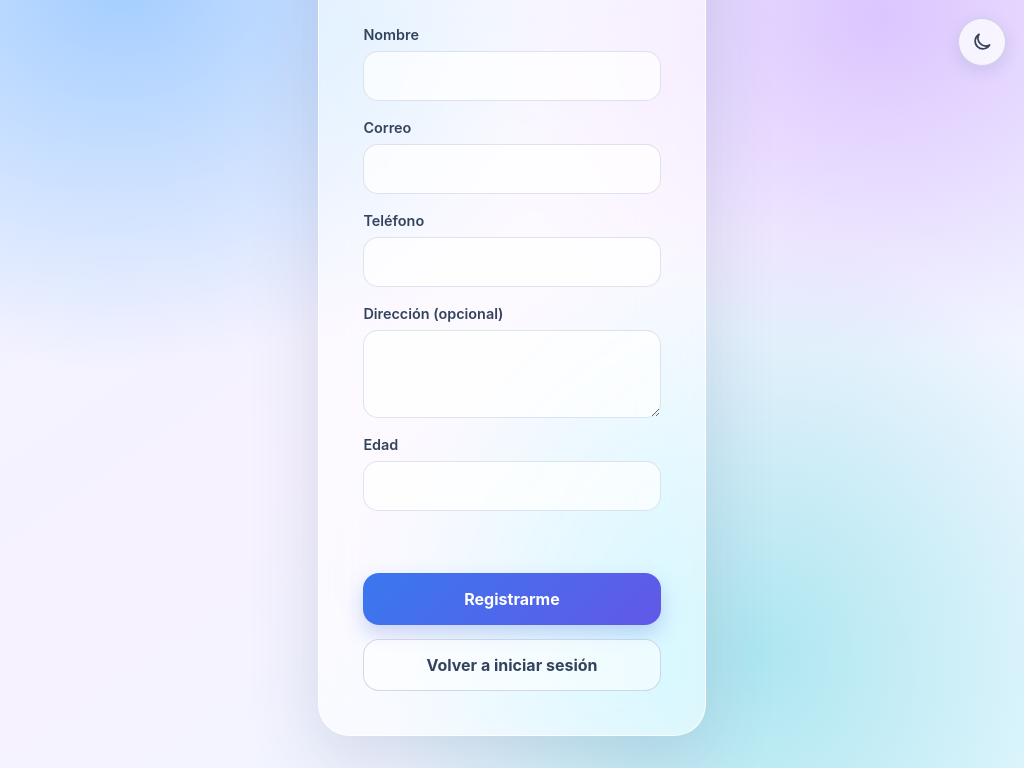
ExamRegistrationPage › signs out and returns to login
(page scrolled)
What coordinates should you click on to do the following:
click the button "Volver a iniciar sesión"
I would click on:
 (512, 664)
Its box is x1=363 y1=638 x2=661 y2=690.
(page scrolled)
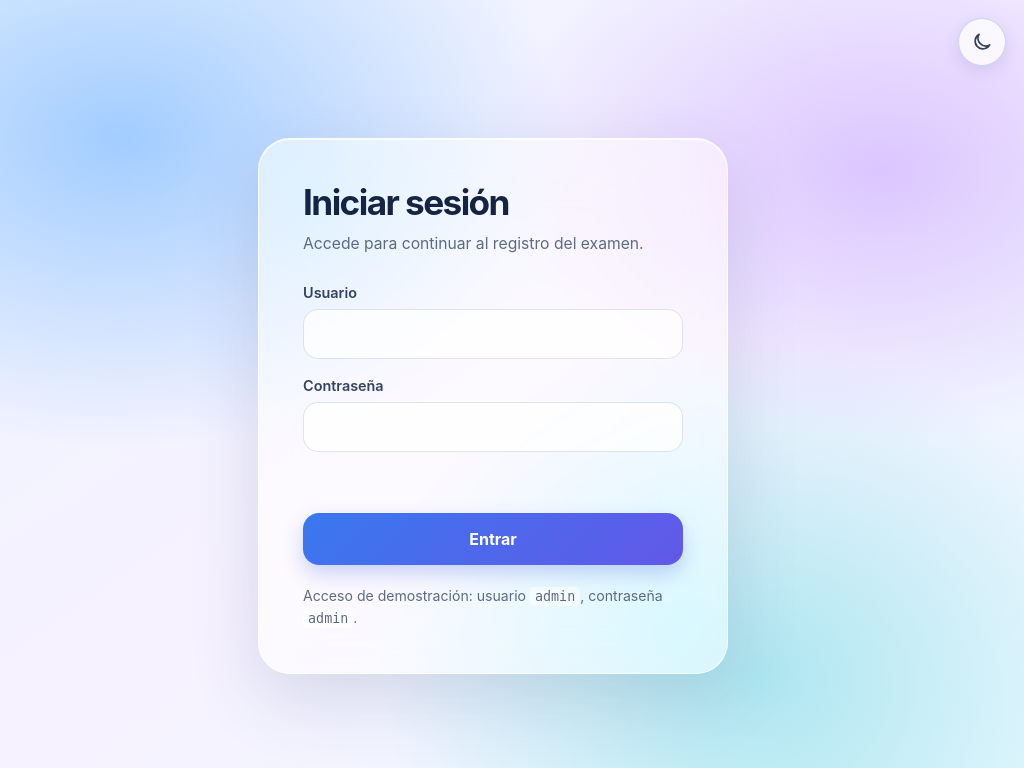
Check: the heading "Iniciar sesión" is shown, box x1=303 y1=181 x2=509 y2=223
